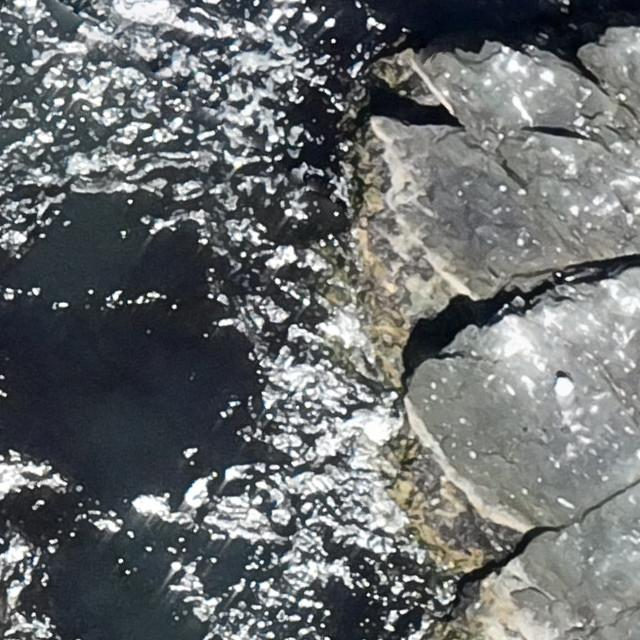umineko: (554, 375, 576, 425)
